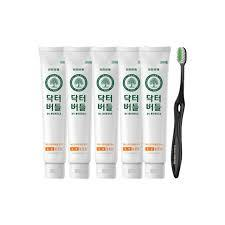toothpaste: (86, 39, 120, 179), (140, 46, 174, 181), (38, 45, 70, 182), (62, 45, 93, 183), (117, 44, 144, 182)
